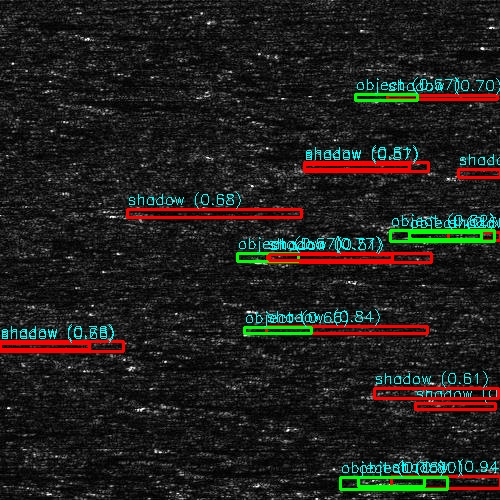rock: (269, 473, 498, 492), (124, 327, 145, 340), (70, 33, 101, 36)
shadow: (384, 473, 500, 492), (0, 340, 175, 349), (135, 327, 200, 340), (86, 33, 225, 36), (135, 363, 270, 366), (0, 429, 29, 440), (0, 297, 44, 300)
